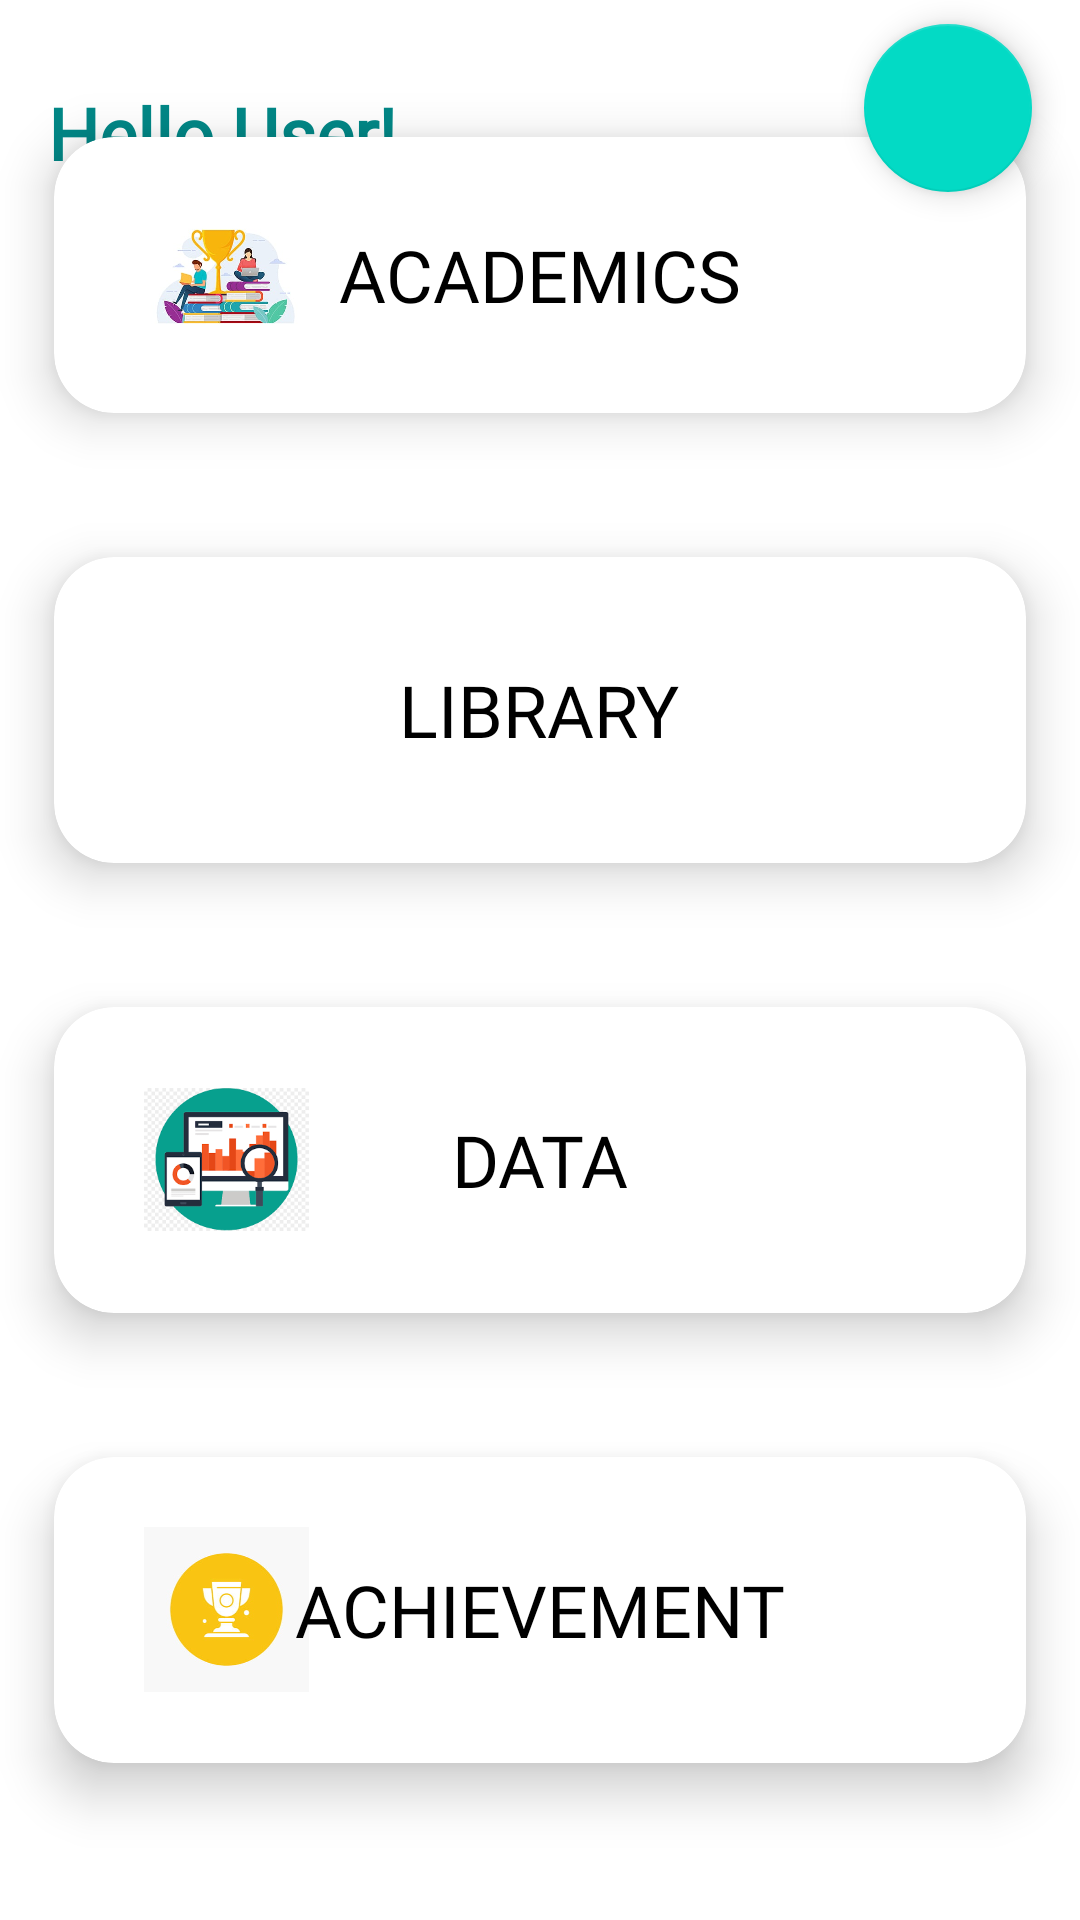

Icon click points for this 1080x1920 phone screenshot, format point (x, y):
aca: point (226, 276)
